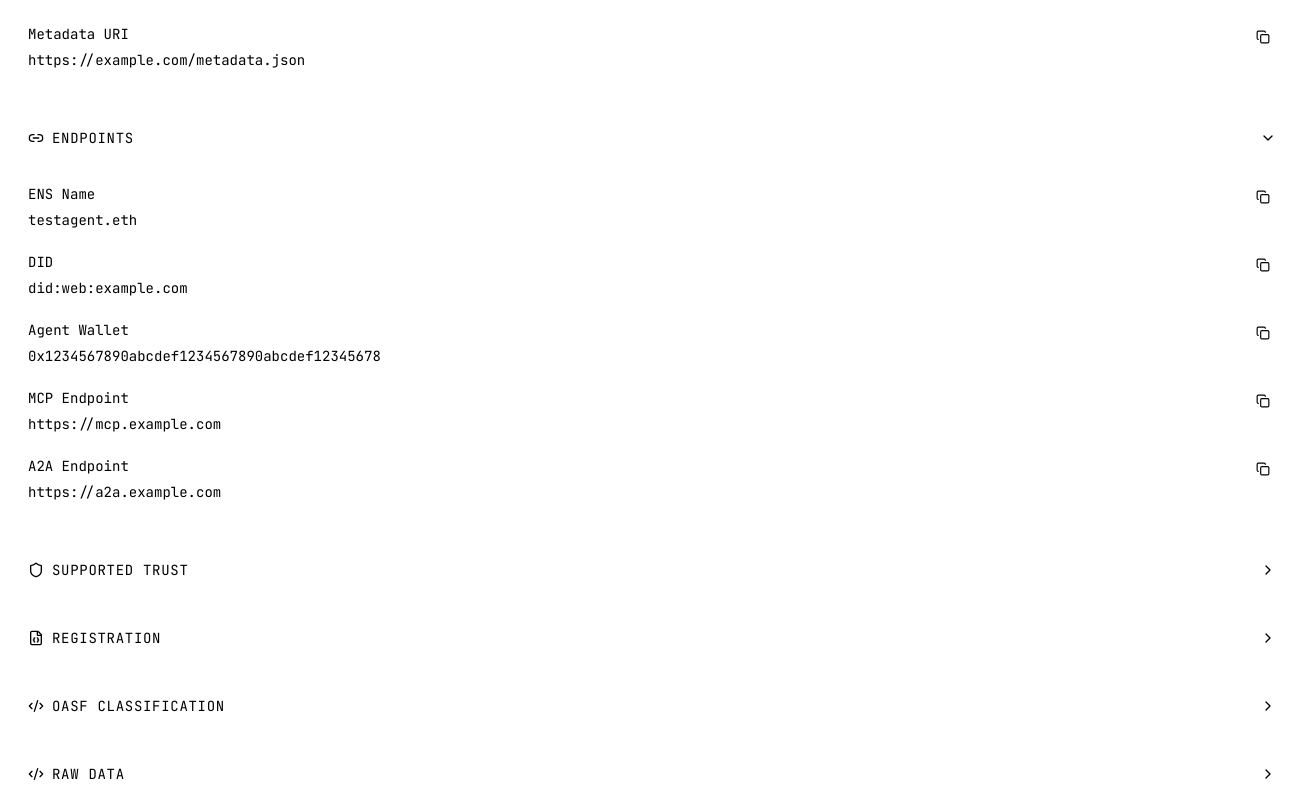
Test: AgentMetadata › supported trust section › shows supported trust models
(page scrolled)
# Click to expand section
Click the button "Supported Trust" at (120, 570), box x1=12 y1=544 x2=1292 y2=596
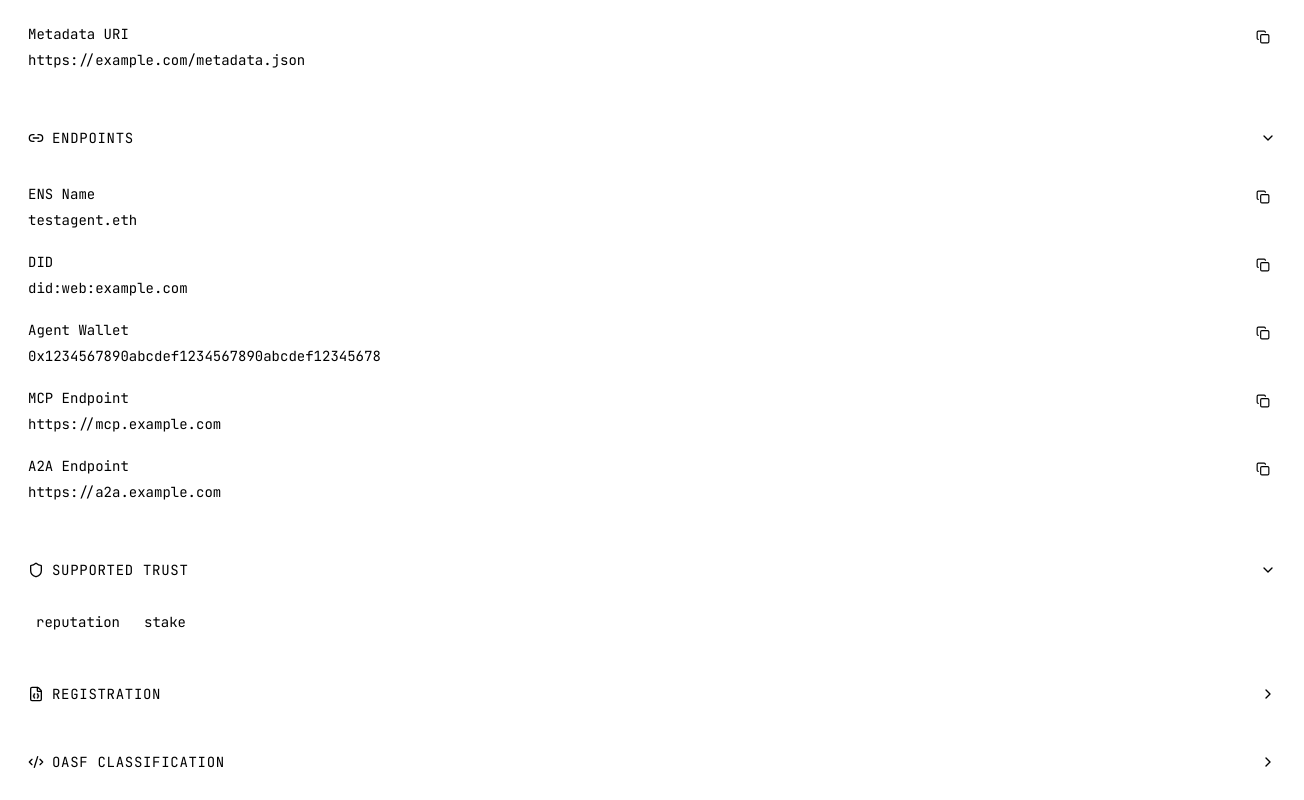
Expected: the text "reputation" is shown, x1=36 y1=613 x2=120 y2=631
Expected: the text "stake" is shown, x1=144 y1=613 x2=186 y2=631
